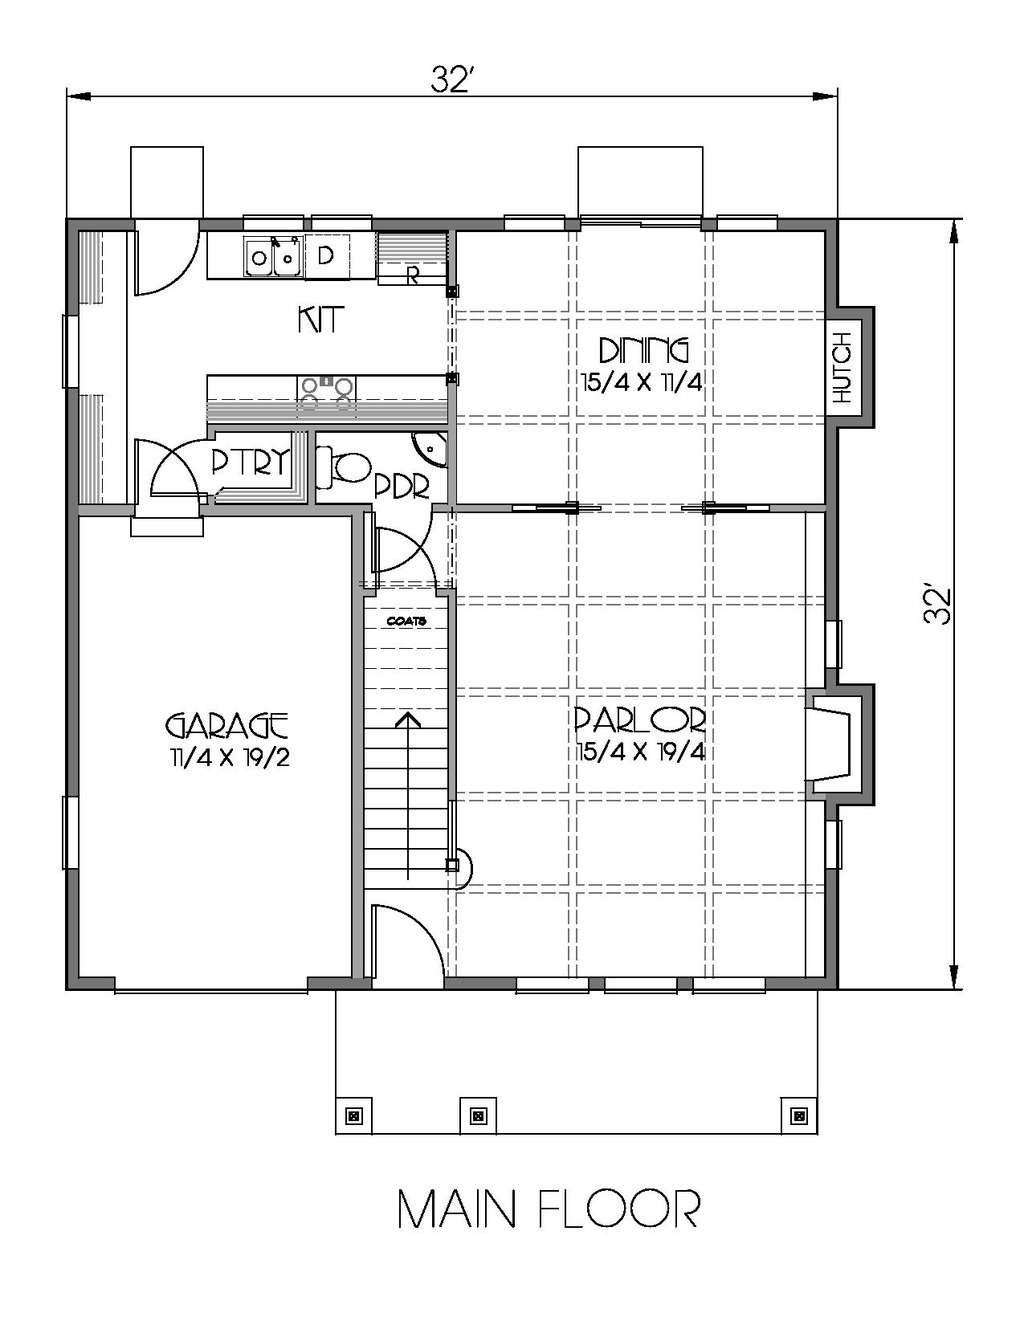door: (364, 900, 447, 996), (131, 434, 200, 543), (120, 208, 198, 298), (353, 504, 435, 576), (372, 535, 443, 598)
large_sink: (319, 439, 376, 496)
stairs: (341, 588, 470, 888)
twin_sink: (241, 239, 308, 286)
window: (689, 966, 762, 1006), (607, 964, 682, 1000), (525, 974, 594, 1000), (62, 302, 80, 390)
